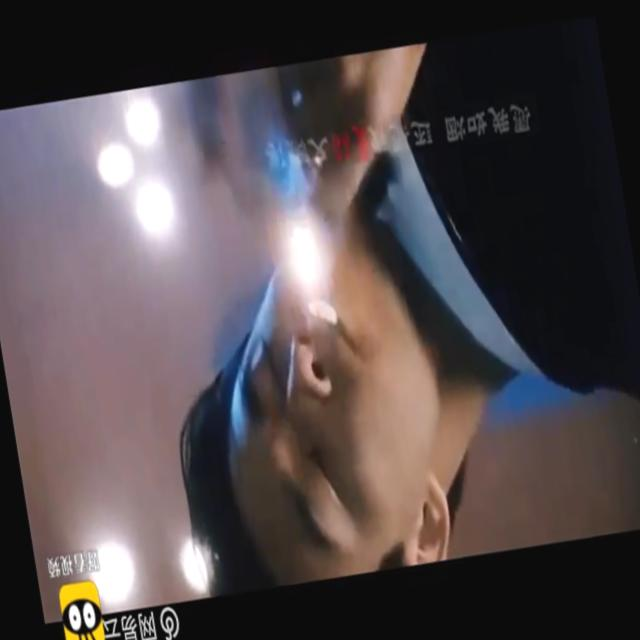cigarette: (301, 284, 345, 331)
